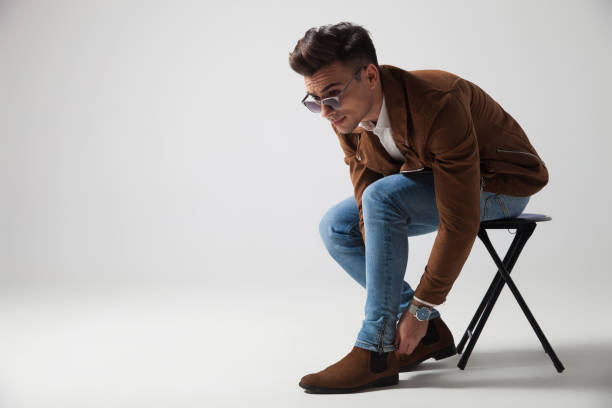Footwear: (296, 343, 404, 397)
